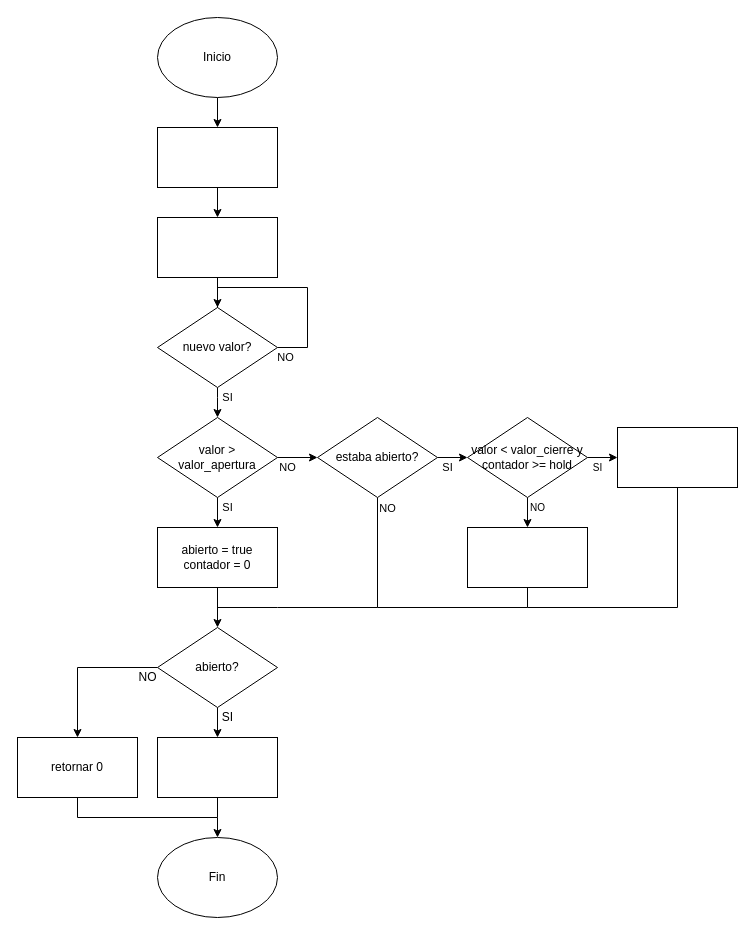
Some shapes in this 755 by 935 pixel diagram are drawn without their labels. The box of each missing label's shape, as (x1, y1, x2, y2) in pixels:
abierto = false: (616, 426, 738, 488)
abierto = false contador = 0 hold = hold*frec_muestreo: (156, 216, 278, 278)
aumento contador: (466, 526, 588, 588)
cargar configuración: valor_apertura, valor_cierre , hold, frec_muestreo: (156, 126, 278, 188)
retornar valor: (156, 736, 278, 798)
